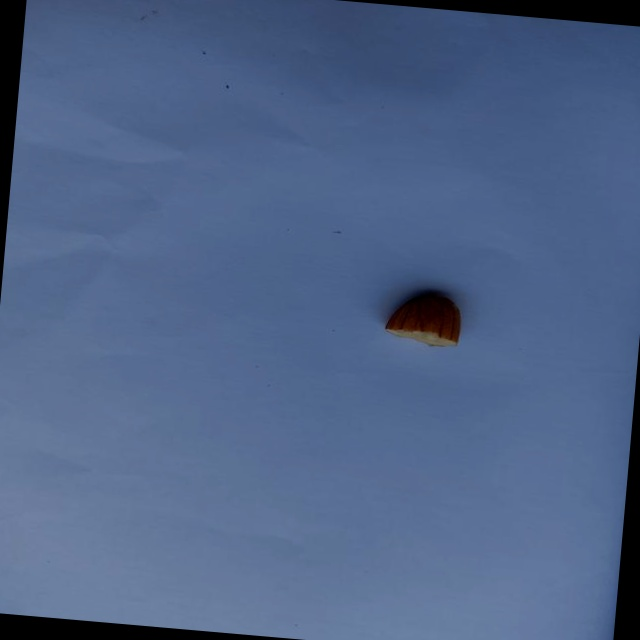grade4: (375, 283, 471, 354)
